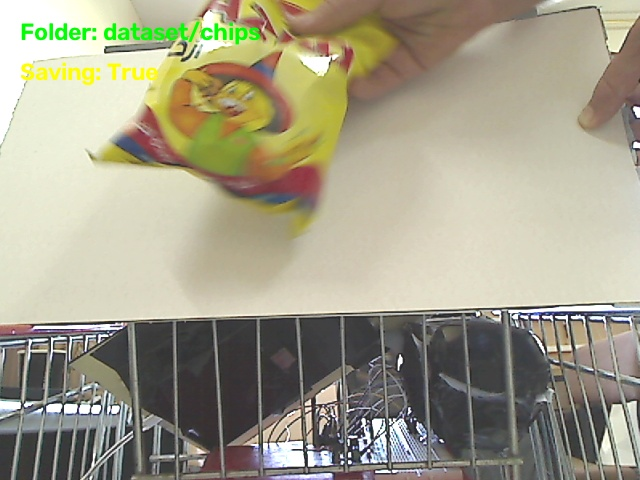chips: (90, 0, 395, 234)
